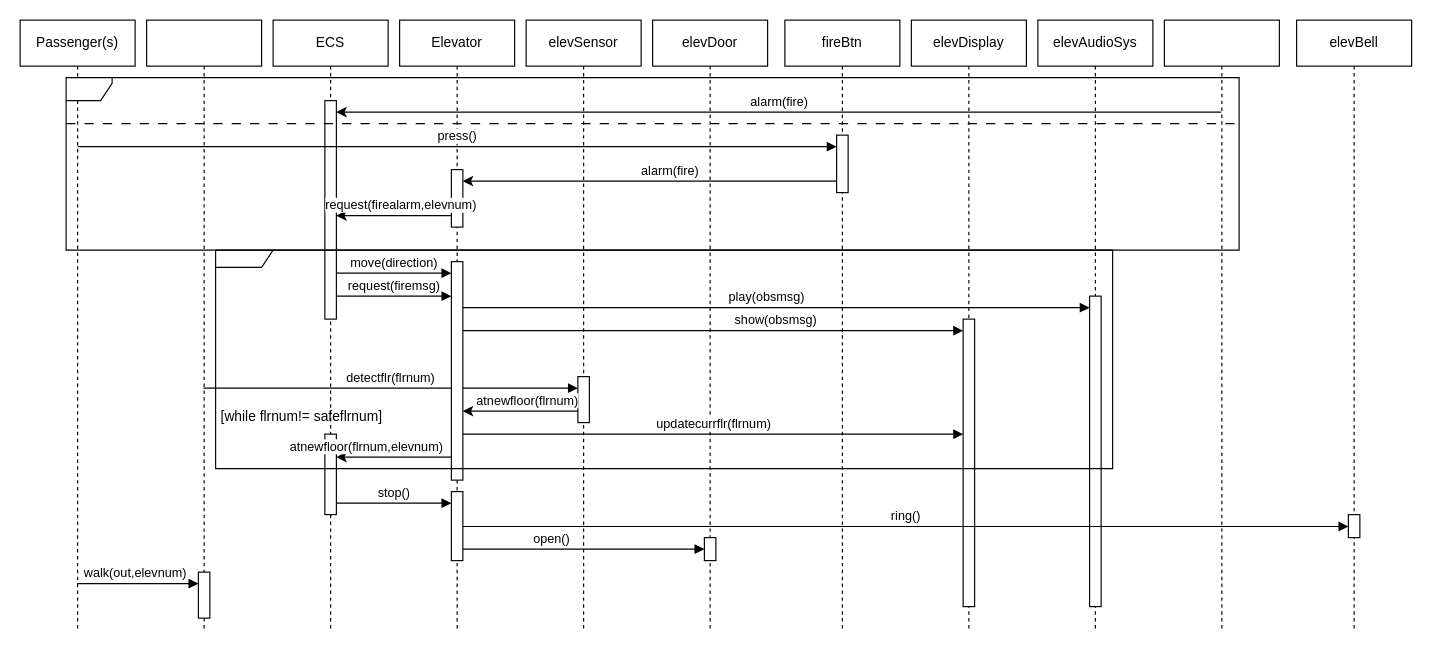
The diagram is 1432 pixels wide and 650 high, and some of its shapes have lost their labels. The box of each missing label's shape, as (x1, y1, x2, y2) in pixels:
alt: (65, 76, 1239, 250)
Building: (1163, 19, 1279, 630)
Floor: (145, 19, 262, 630)
loop: (214, 249, 1113, 469)
